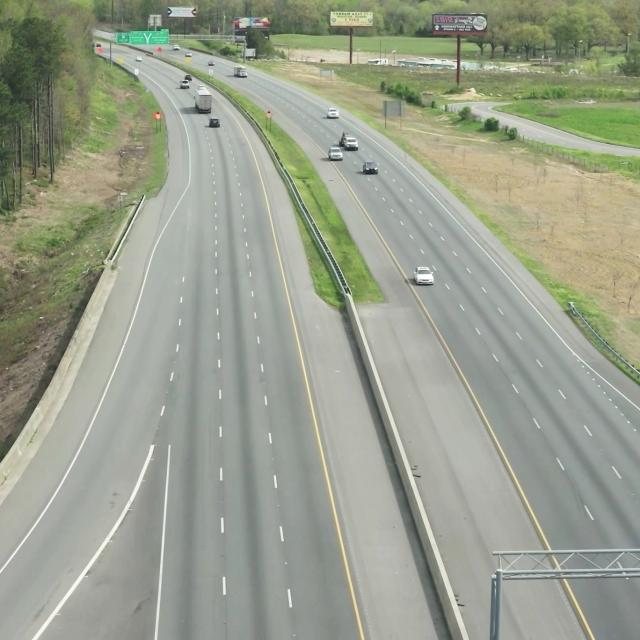Vehicle: (412, 260, 434, 289)
